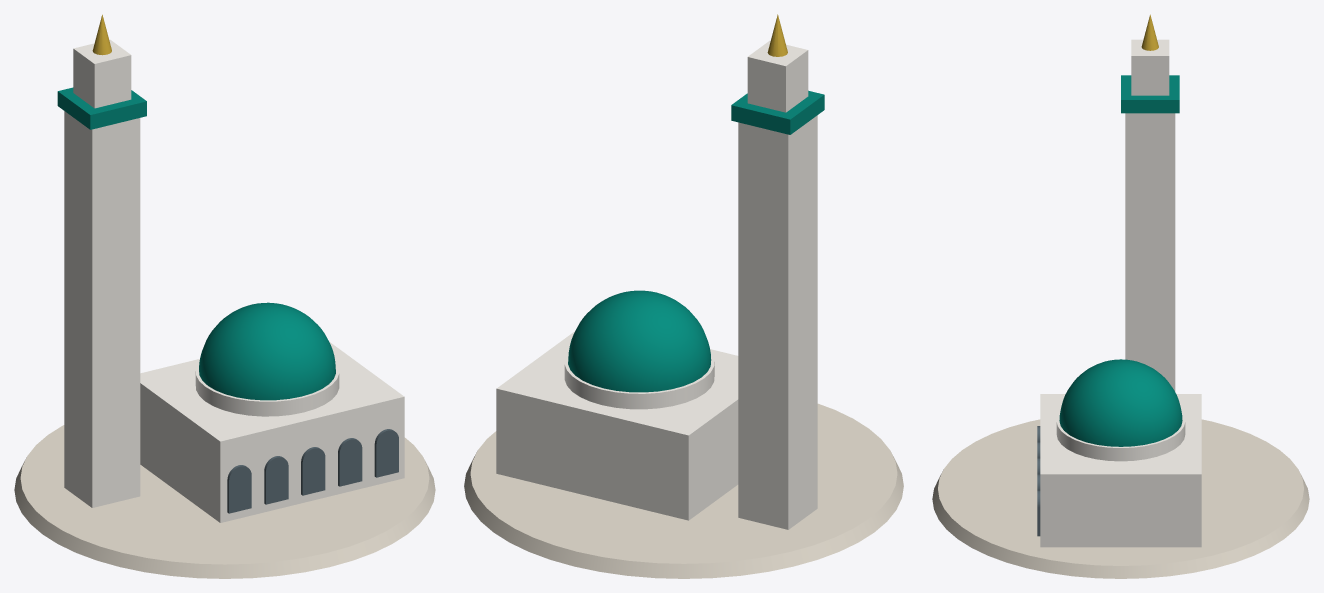
Rendered from mosque.glb.
The picture shows the model from 3 angles, left to right: view 1: azimuth 30°, elevation 25°; view 2: azimuth 150°, elevation 25°; view 3: azimuth 270°, elevation 25°; orthographic projection. The views are drawn at different scales.
Parts seen in each view (by area): view 1: minaret, ground, object 3, dome, arches; view 2: minaret, ground, object 3, dome; view 3: ground, object 3, minaret, dome.
Part boxes in pixels (left/top/right/bottom): minaret: left=57, top=14, right=146, bottom=507; ground: left=14, top=425, right=435, bottom=578; object 3: left=140, top=342, right=404, bottom=522; dome: left=195, top=302, right=339, bottom=416; arches: left=227, top=429, right=398, bottom=513; minaret: left=731, top=14, right=824, bottom=529; ground: left=464, top=403, right=903, bottom=578; object 3: left=496, top=331, right=738, bottom=520; dome: left=564, top=290, right=714, bottom=409; ground: left=932, top=419, right=1309, bottom=578; object 3: left=1040, top=394, right=1201, bottom=547; minaret: left=1121, top=14, right=1179, bottom=391; dome: left=1056, top=359, right=1185, bottom=461.
Bounding box in the file's own units: 2.58 × 3.3 × 2.58.
